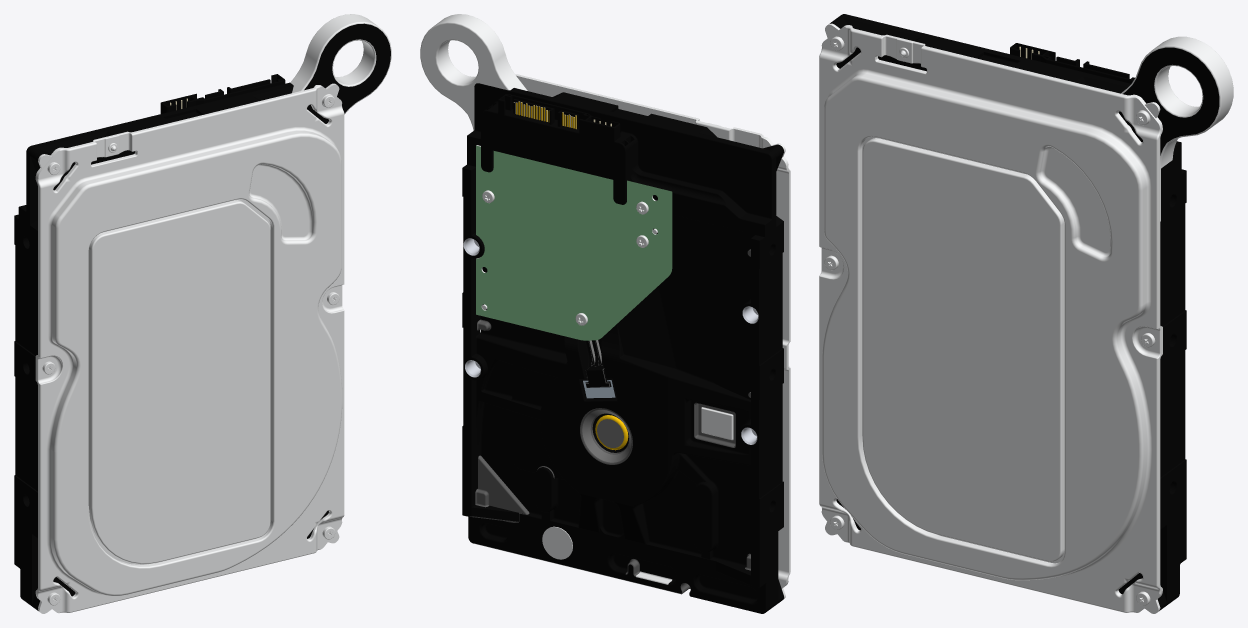
File: shyhalk_harddisk_keychain.glb
3 renders of one model, left to right at view 1: azimuth 30°, elevation 25°; view 2: azimuth 150°, elevation 25°; view 3: azimuth 330°, elevation 25°, orthographic. The views are drawn at different scales.
Parts seen in each view (by area): view 1: 3DGeom-2357, 3DGeom-2358, 3DGeom-2360; view 2: 3DGeom-2358, 3DGeom-2370, 3DGeom-2360, 3DGeom-2357, 3DGeom-2355, 3DGeom-2371, 3DGeom-2367; view 3: 3DGeom-2357, 3DGeom-2358, 3DGeom-2360.
Boxes of the visible parts, x1,y1,x2,y2 form: 3DGeom-2357: (35, 83, 344, 613); 3DGeom-2358: (14, 23, 390, 610); 3DGeom-2360: (88, 14, 391, 568); 3DGeom-2358: (462, 83, 783, 613); 3DGeom-2370: (476, 145, 672, 340); 3DGeom-2360: (420, 14, 786, 593); 3DGeom-2357: (515, 74, 790, 599); 3DGeom-2355: (470, 249, 750, 595); 3DGeom-2371: (582, 410, 631, 462); 3DGeom-2367: (465, 239, 758, 442); 3DGeom-2357: (819, 23, 1162, 613); 3DGeom-2358: (830, 14, 1219, 610); 3DGeom-2360: (857, 36, 1233, 567).
Bounding box in the file's own units: 0.0258 × 0.0356 × 0.00445.
